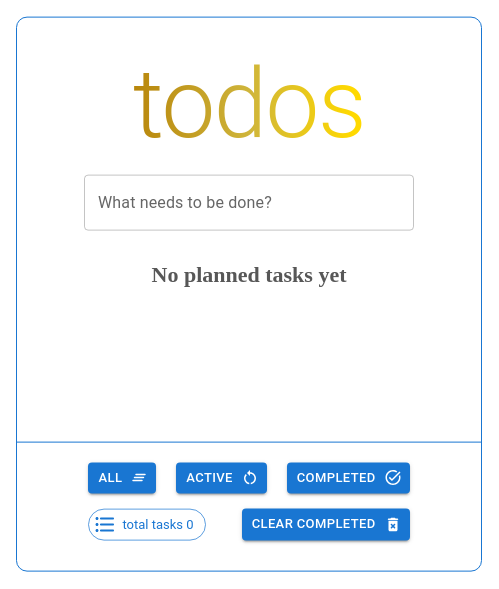
Test: Switching by navigation buttons › No tasks switching
Click the button "Active". click: (222, 478)
box: [176,463,267,493]
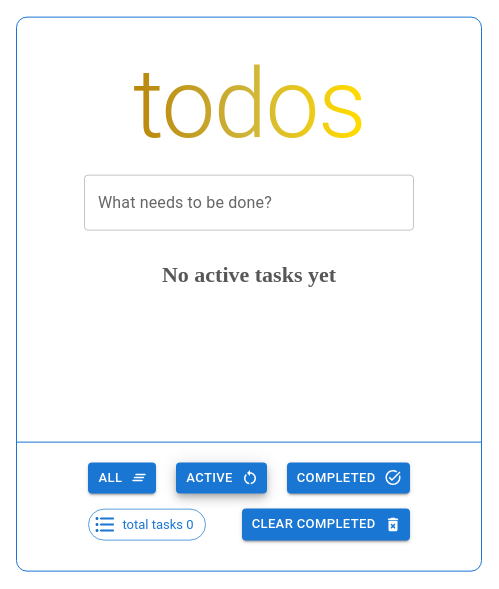
Expected: the heading "No active tasks yet" is shown, [162,262,336,287]
Click the button "Completed". click: (348, 478)
box: [287,463,410,493]
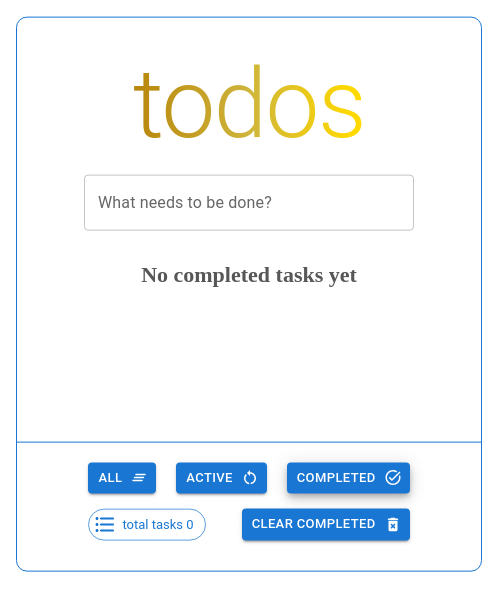
Expected: the heading "No completed tasks yet" is shown, [141,262,357,287]
Click the button "All". click: (122, 478)
box: [88,463,156,493]
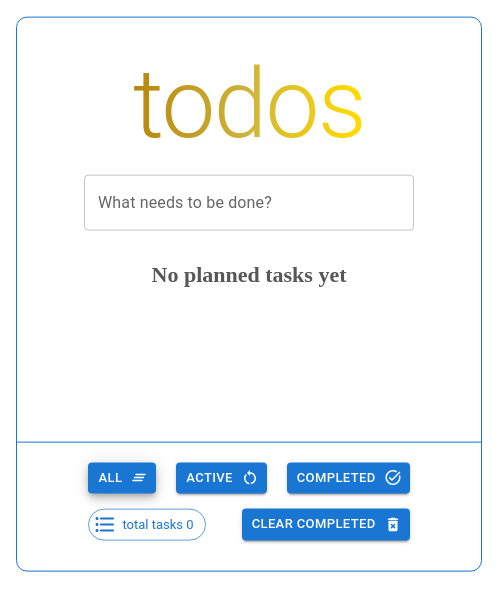
Expected: the heading "No planned tasks yet" is shown, [152,262,346,287]
